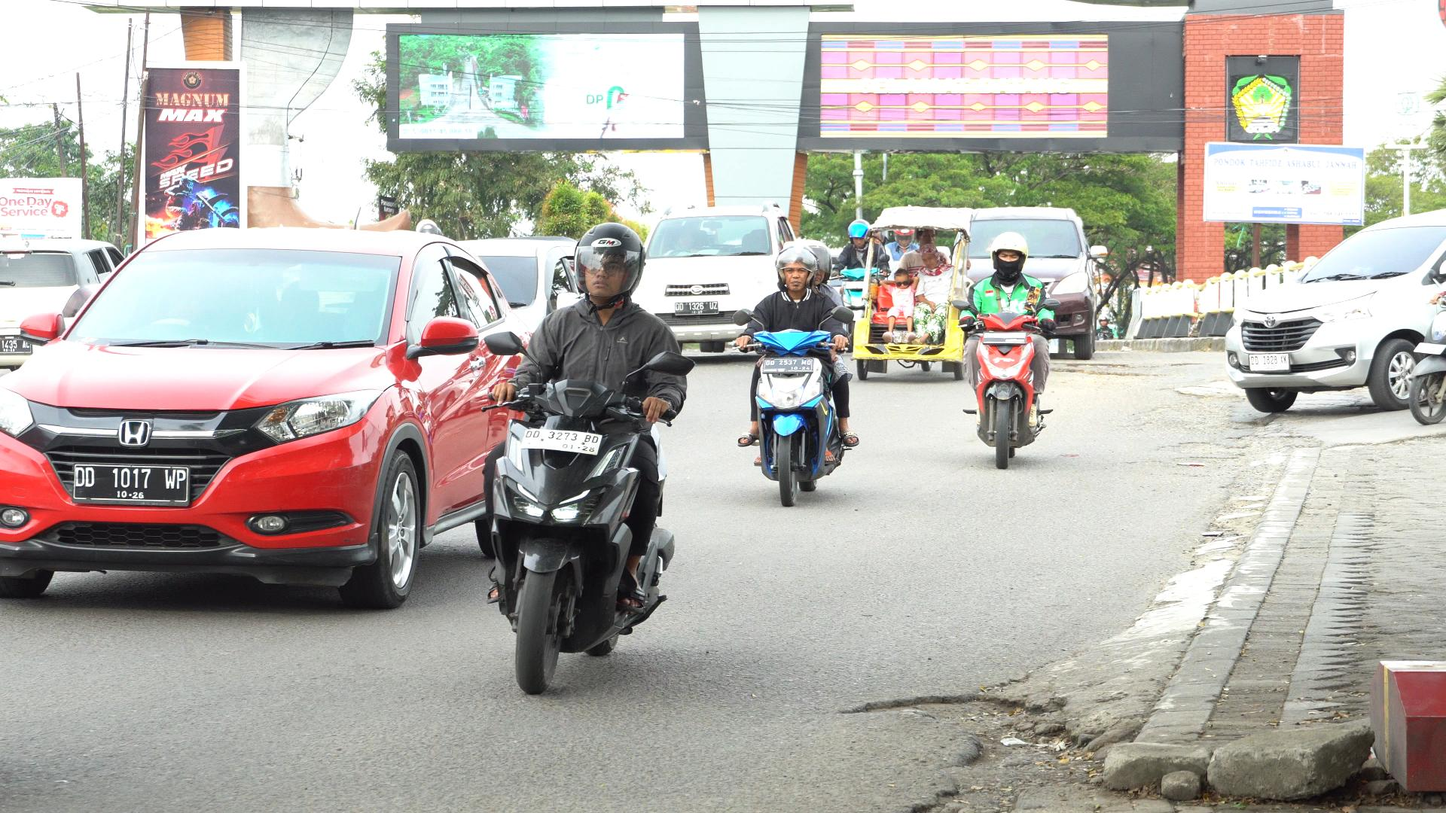number-plate: (520, 425, 604, 459), (759, 357, 817, 374)
